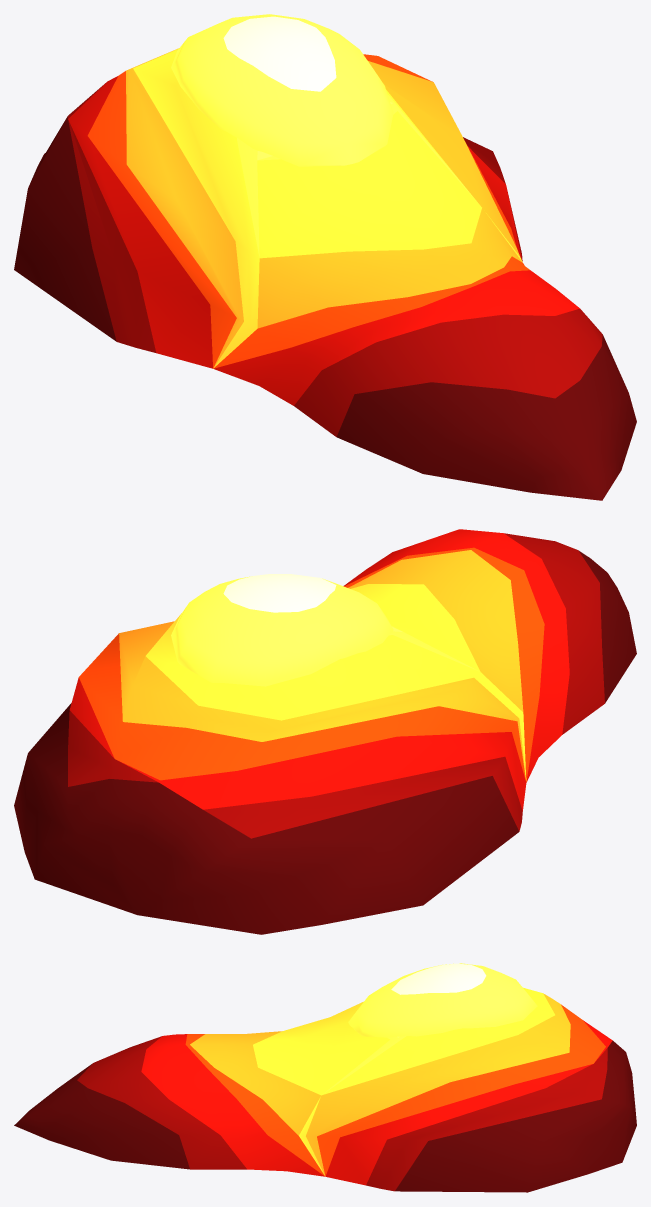
Rendered from shot_dflame_125.glb.
3 views of the same model, one above another, from view 1: azimuth 30°, elevation 25°; view 2: azimuth 150°, elevation 25°; view 3: azimuth 270°, elevation 25° (orthographic). The views are drawn at different scales.
Visible parts, largest first — view 1: shot_dflame_125_fire, shot_dflame_125_core; view 2: shot_dflame_125_fire, shot_dflame_125_core; view 3: shot_dflame_125_fire, shot_dflame_125_core.
Boxes of the visible parts, x1=… form: shot_dflame_125_fire: x1=14, y1=48, x2=636, y2=500; shot_dflame_125_core: x1=171, y1=14, x2=393, y2=166; shot_dflame_125_fire: x1=14, y1=529, x2=636, y2=934; shot_dflame_125_core: x1=171, y1=574, x2=393, y2=686; shot_dflame_125_fire: x1=14, y1=987, x2=636, y2=1192; shot_dflame_125_core: x1=348, y1=963, x2=537, y2=1037.
Size of the model in its own units: 4.57 by 2.44 by 9.
